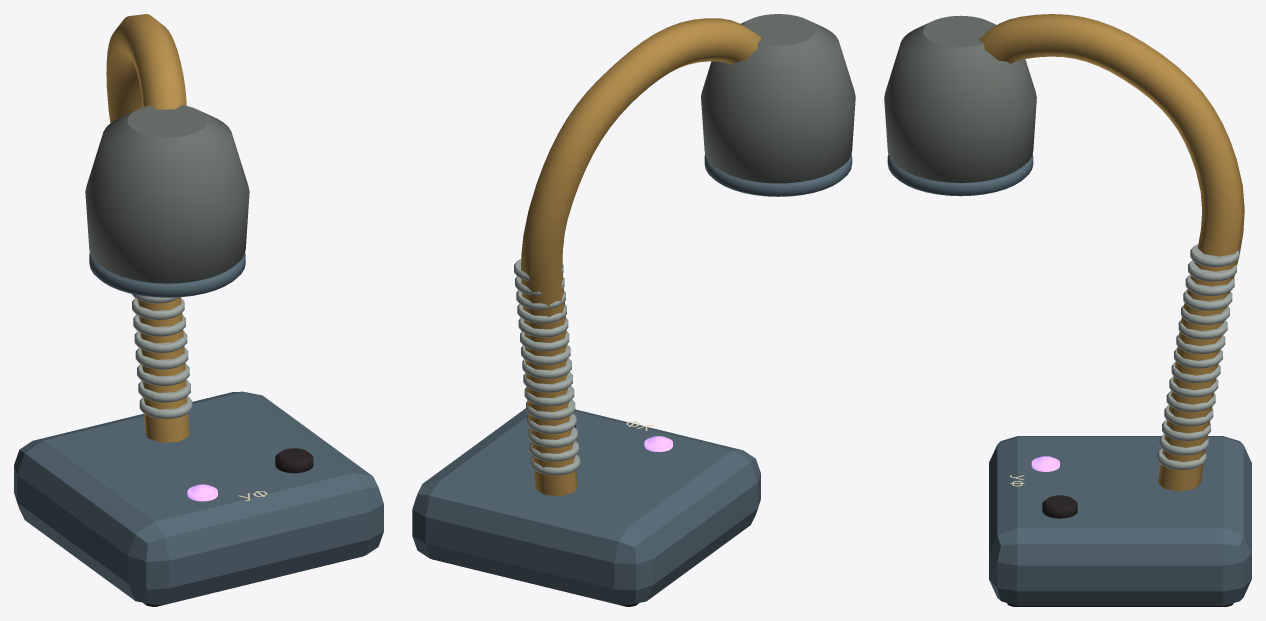
Rendered from UVInspectionLamp.fbx.
The picture shows the model from 3 angles, left to right: view 1: azimuth 30°, elevation 25°; view 2: azimuth 150°, elevation 25°; view 3: azimuth 270°, elevation 25°; orthographic projection. The views are drawn at different scales.
Parts seen in each view (by area): view 1: Console base, Metal UV head, Flexible conduit, Lens rim, Power switch, Conduit coil.003, Conduit coil.001, Conduit coil.004, Conduit coil, Conduit coil.002, Conduit coil.005, Conduit coil.006; view 2: Console base, Metal UV head, Flexible conduit, Lens rim; view 3: Console base, Flexible conduit, Metal UV head, Lens rim, Power switch, Conduit coil.014, Conduit coil.013, Conduit coil.012, Conduit coil.011, Conduit coil.010, Conduit coil.009.
Part boxes in pixels (x1,y1,x2,y2): Console base: [14, 391, 383, 604]; Metal UV head: [85, 105, 249, 283]; Flexible conduit: [106, 14, 189, 442]; Lens rim: [89, 252, 245, 297]; Power switch: [275, 448, 313, 473]; Conduit coil.003: [135, 347, 188, 369]; Conduit coil.001: [138, 380, 190, 402]; Conduit coil.004: [134, 331, 187, 352]; Conduit coil: [139, 396, 192, 418]; Conduit coil.002: [137, 363, 189, 385]; Conduit coil.005: [133, 314, 185, 336]; Conduit coil.006: [132, 298, 184, 319]; Console base: [412, 408, 760, 604]; Metal UV head: [701, 14, 855, 183]; Flexible conduit: [521, 18, 761, 495]; Lens rim: [704, 154, 852, 196]; Console base: [989, 436, 1251, 605]; Flexible conduit: [979, 14, 1244, 491]; Metal UV head: [884, 15, 1036, 182]; Lens rim: [887, 154, 1033, 196]; Power switch: [1042, 495, 1077, 518]; Conduit coil.014: [1190, 244, 1239, 267]; Conduit coil.013: [1188, 260, 1236, 281]; Conduit coil.012: [1185, 275, 1234, 296]; Conduit coil.011: [1183, 289, 1232, 310]; Conduit coil.010: [1181, 305, 1229, 324]; Conduit coil.009: [1178, 320, 1227, 339].
Bounding box in the file's own units: 0.1905 × 0.3157 × 0.207.
